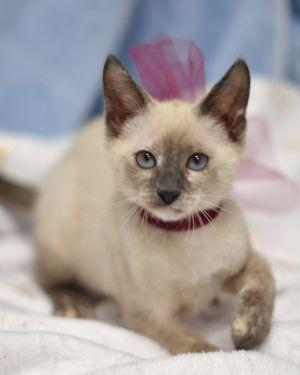siamese: (90, 41, 272, 238)
